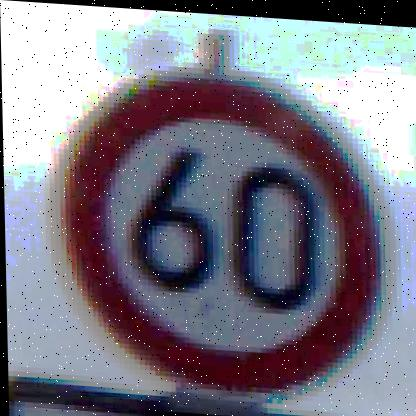Speed Limit -60-: (43, 56, 398, 414)
